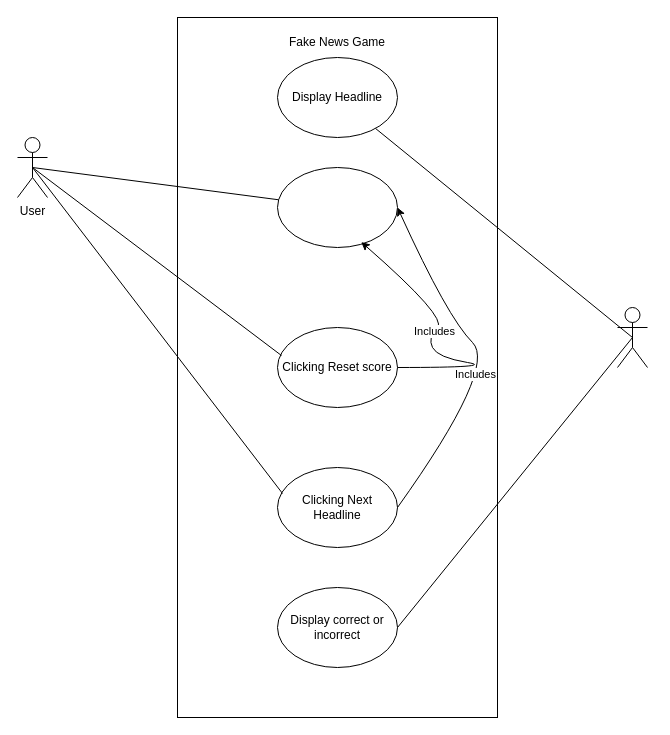
This 670x735 diagram has some shape labels left out. The shapes that lost their labels are listed below. From the top down, each one's centre as x and y in pixels, then its label:
At point 337,207: "Clicking real or fake".
At point 632,337: "System".
